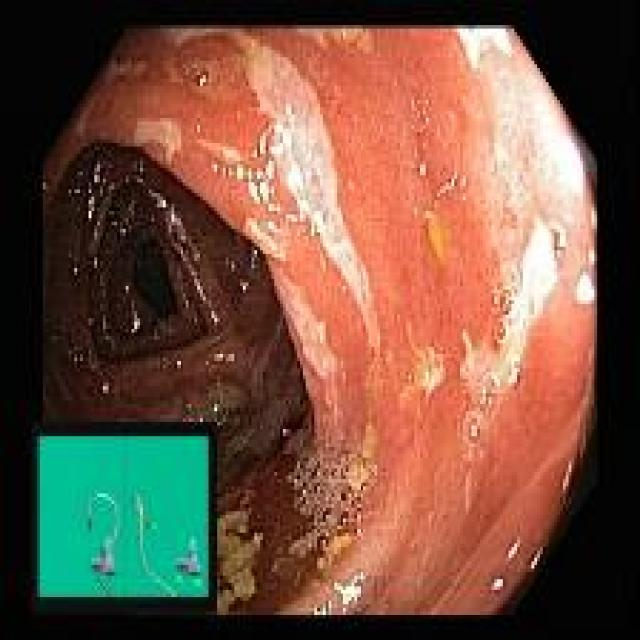ulcerative-colitis: (46, 28, 596, 615)
